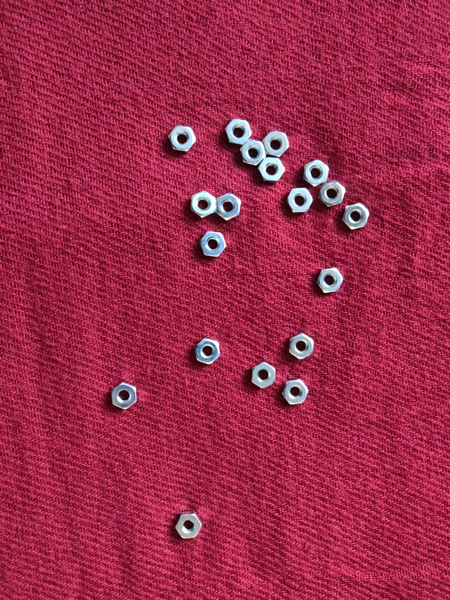nut: (341, 202, 371, 231), (174, 511, 204, 540), (168, 125, 197, 154), (225, 118, 254, 146), (199, 231, 228, 259), (287, 332, 315, 361), (262, 130, 290, 158), (238, 139, 266, 167), (317, 180, 345, 208), (194, 337, 222, 365), (215, 192, 242, 221), (281, 378, 310, 405), (111, 381, 138, 410), (189, 190, 217, 217), (286, 187, 314, 214), (250, 361, 277, 389), (316, 267, 345, 293), (303, 160, 330, 187), (258, 157, 286, 183)
